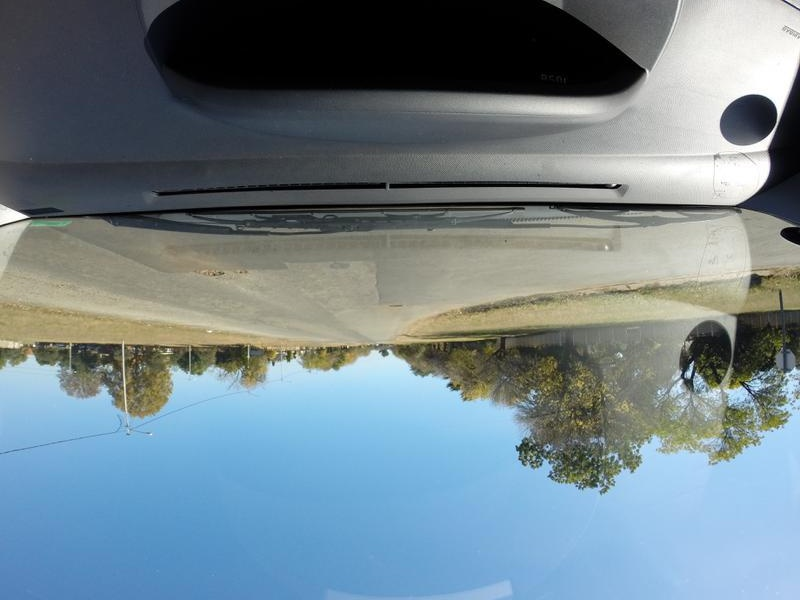pothole: (192, 264, 220, 281), (226, 262, 253, 278)
